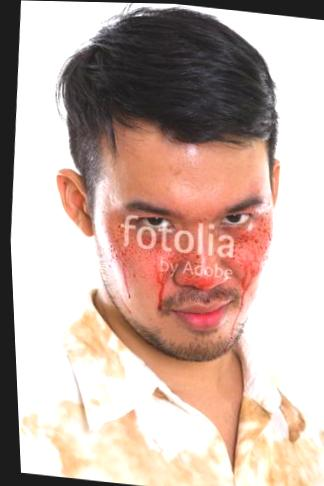Fire: (110, 200, 272, 346)
